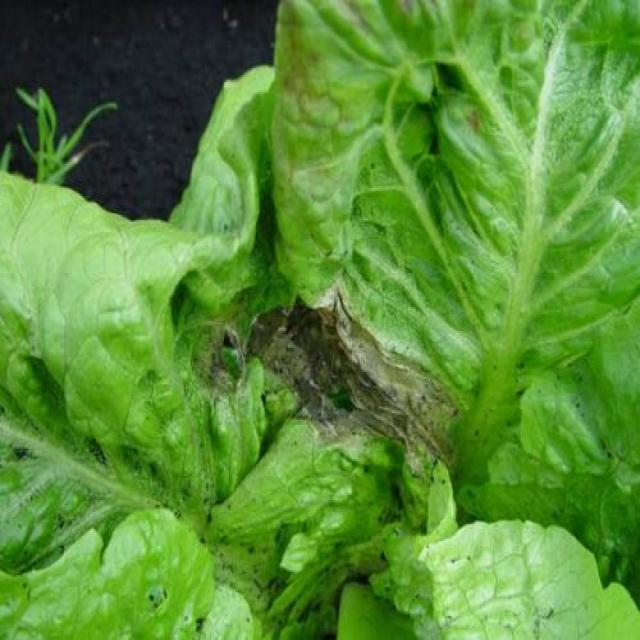Baby: (184, 271, 458, 541)
